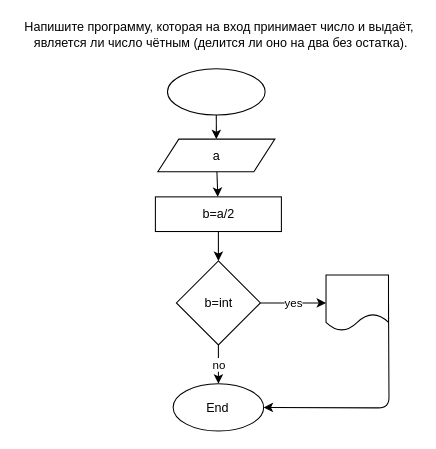
The diagram is 436 pixels wide and 449 high, and some of its shapes have lost their labels. The shapes that lost their labels are listed below. From the top down, each one's centre as x and y in pixels, then its label:
At [215,91]: "Start".
At [356,302]: "print a".
